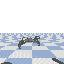drone: (18, 36, 40, 49)
